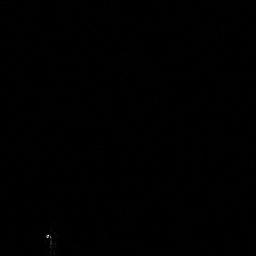ship: (44, 230, 57, 256)
